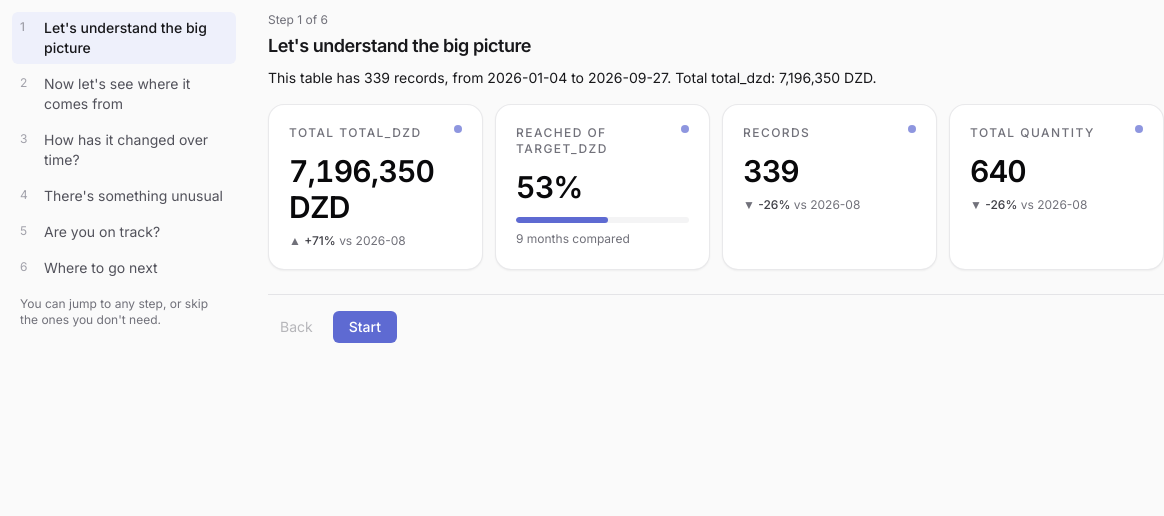
it: buttons run inside the step › each step keeps its own result when you move around
Click the text "How has it changed over time?" at (136, 150), box 44,130 -> 228,170
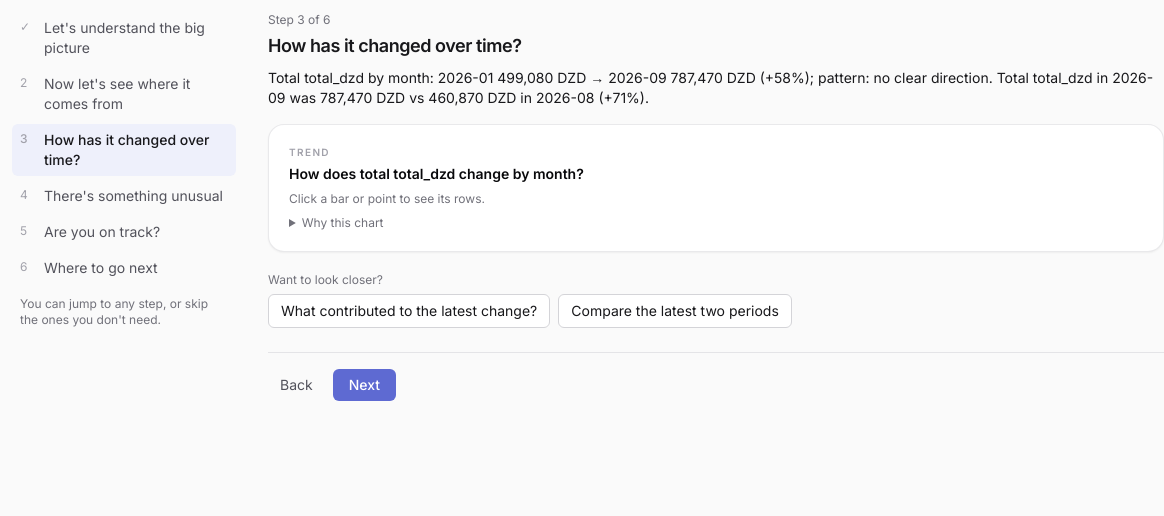
Click the button "Compare the latest two periods" at (675, 311), box 558,294 -> 792,328
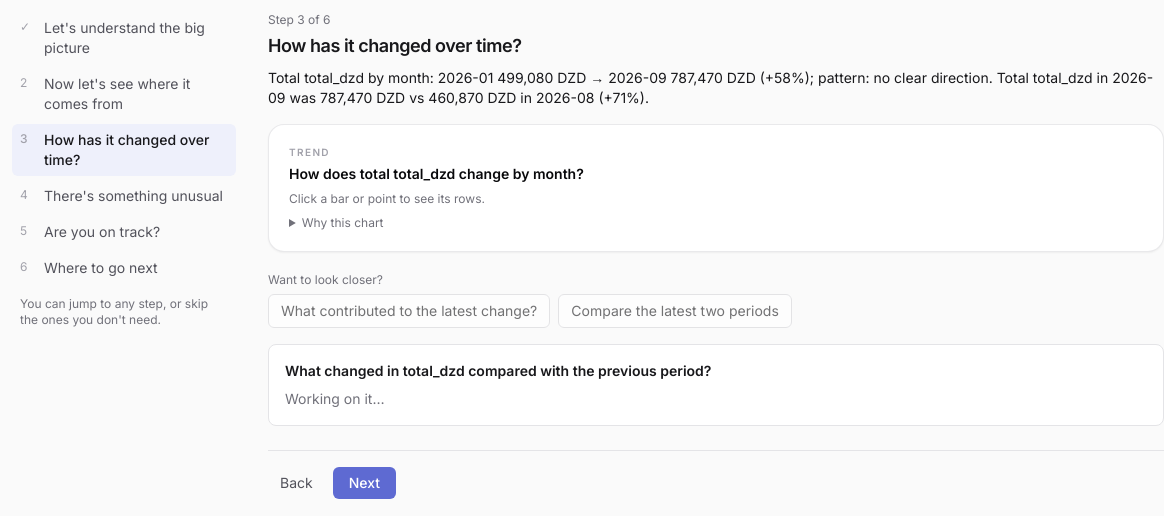
Click the text "Let's understand the big picture" at (136, 38), box 44,18 -> 228,58
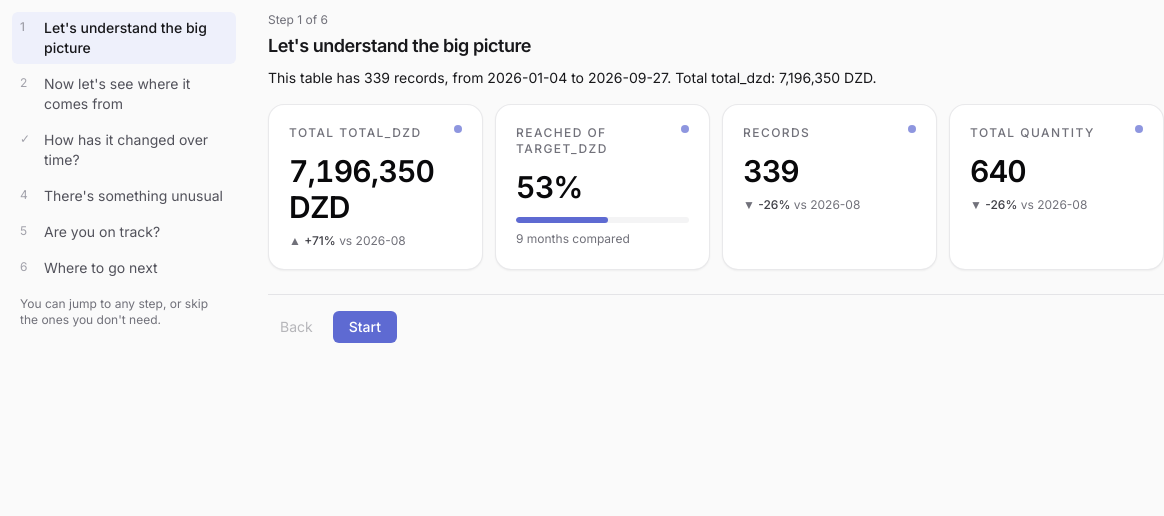
Check: the message "Working on it…" is gone
Click the text "How has it changed over time?" at (136, 150), box 44,130 -> 228,170
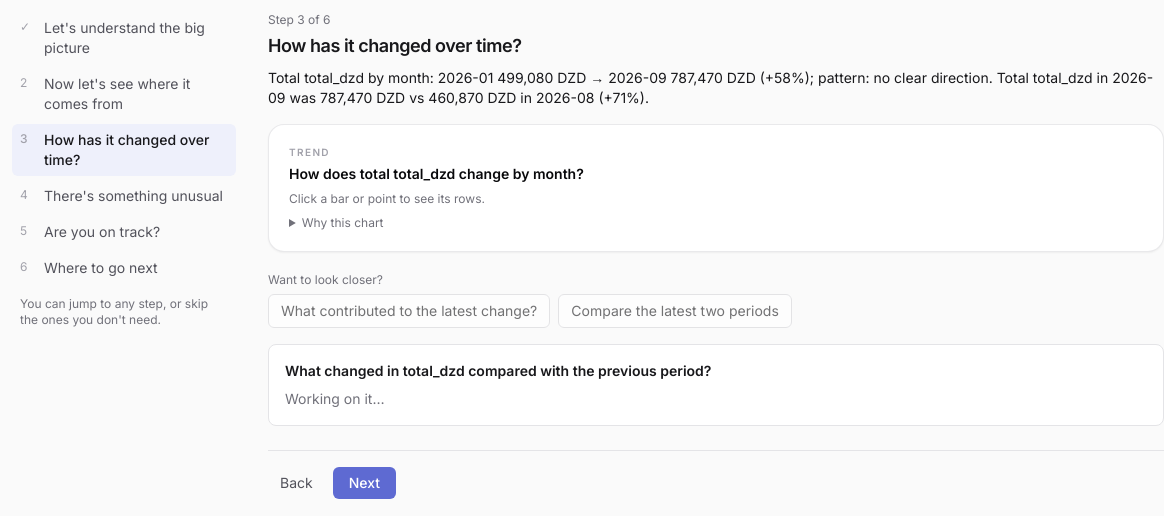
Check: the message "Working on it…" is shown, box 285,390 -> 384,407
